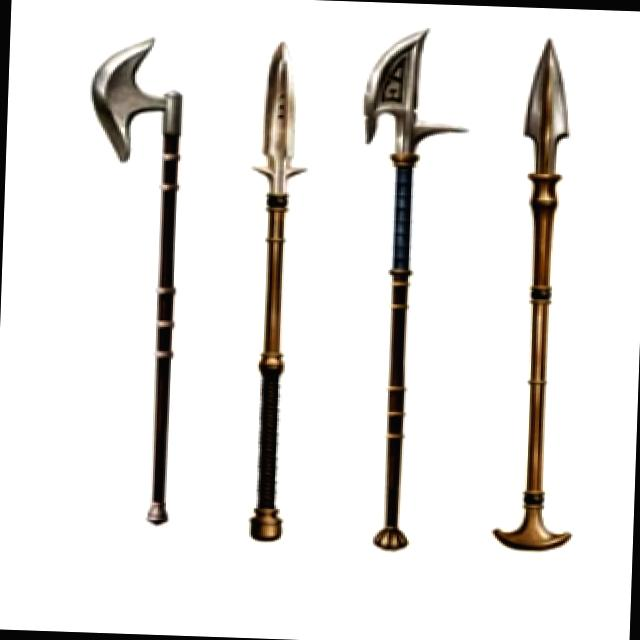spear: (335, 21, 474, 562), (64, 29, 198, 552), (488, 19, 600, 558), (248, 29, 318, 553)
